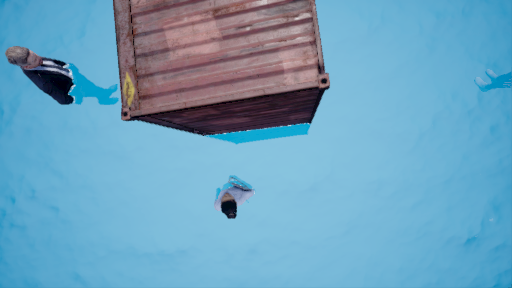person: (9, 45, 104, 118), (196, 168, 271, 232)
